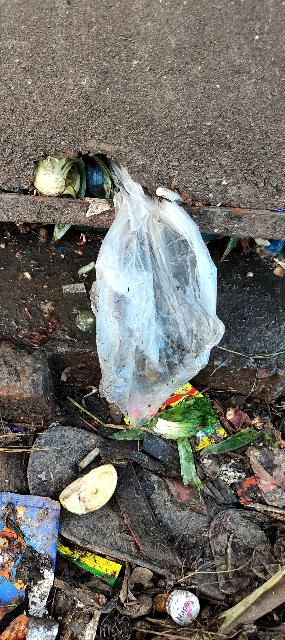polythene: (85, 176, 230, 425)
